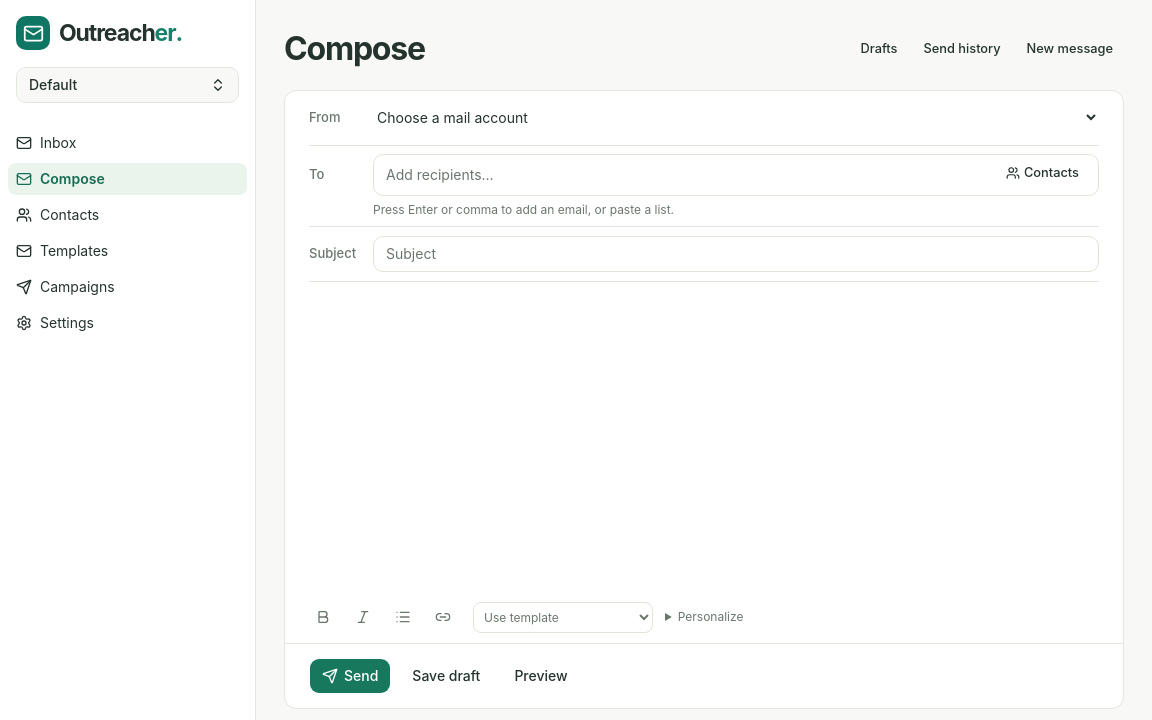
Test: saves and reopens an incomplete draft without requiring an account or template
Type "Unfinished" into the field labelled "Subject" at (736, 254), box [373,236,1099,272]
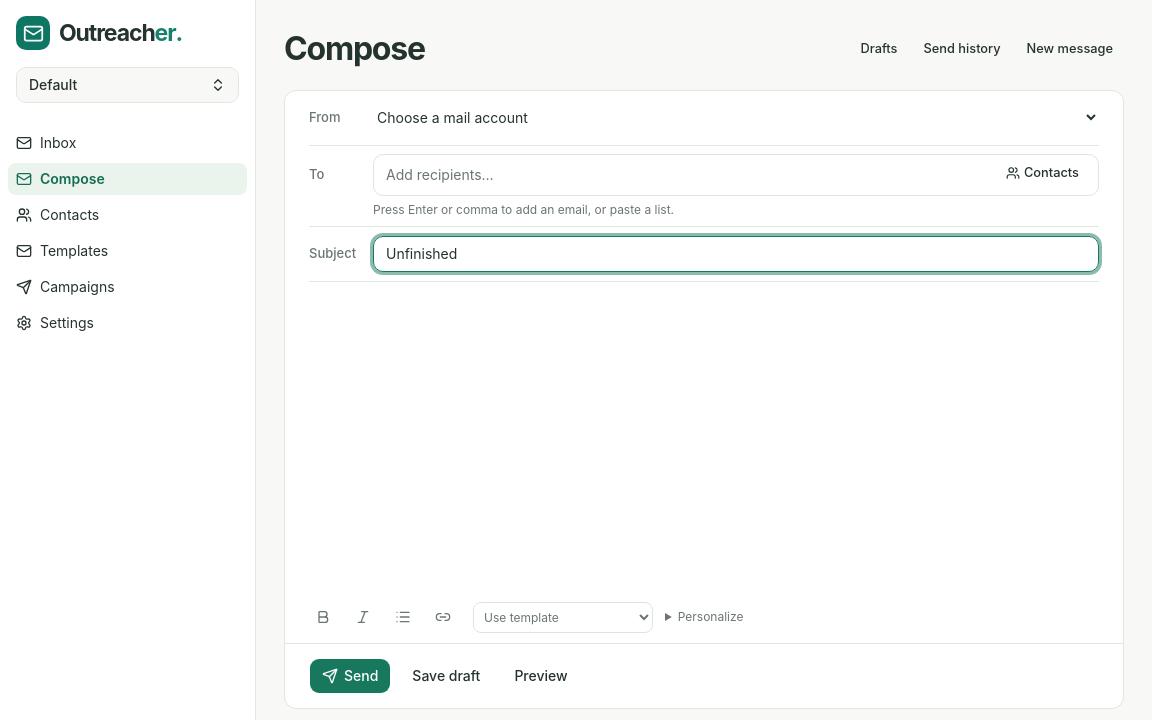
Check: the field labelled "Find contacts" is not shown
Click the button "Contacts" at (1042, 173), box [995,159,1090,187]
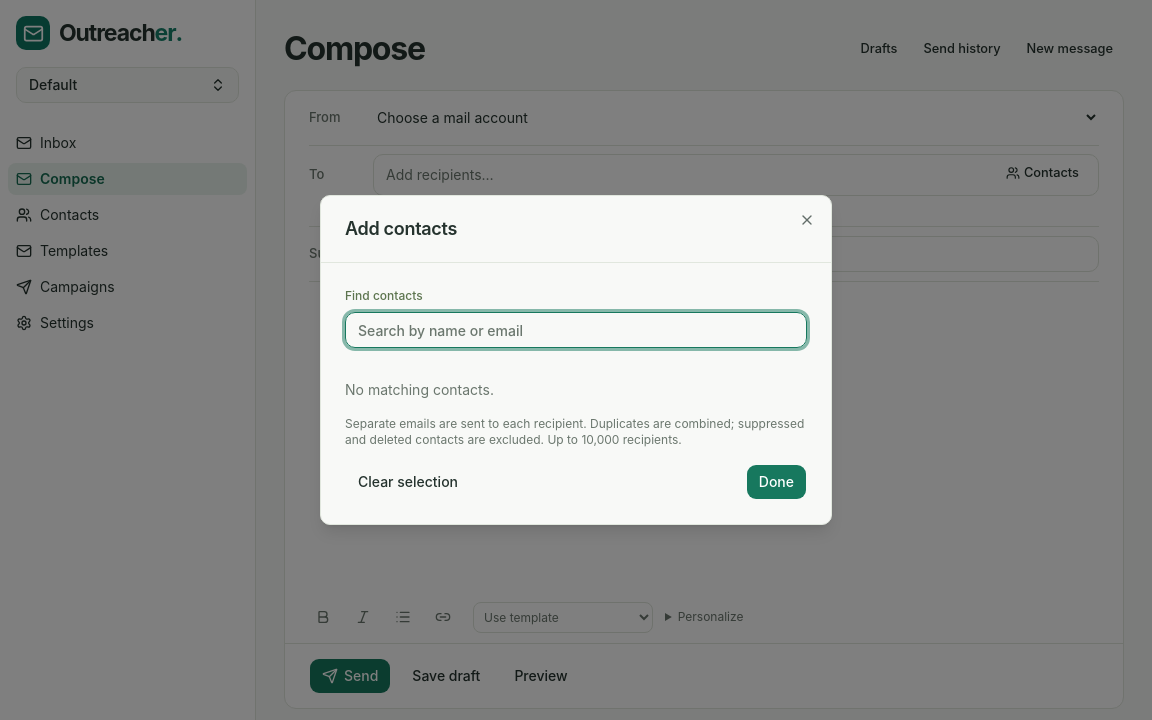
Check: the field labelled "Find contacts" is shown, box [345,312,807,348]
Click the button "Done" at (776, 482), box [746,464,807,500]
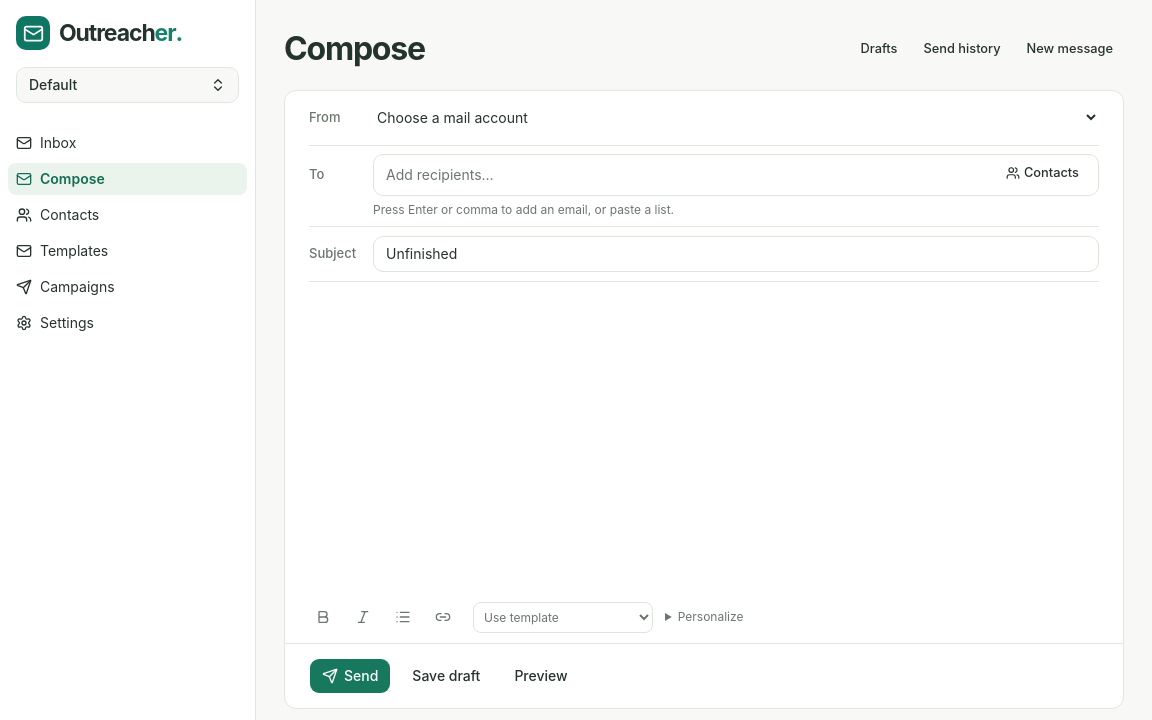
Click the button "Save draft" at (446, 676), box [399,658,493,694]
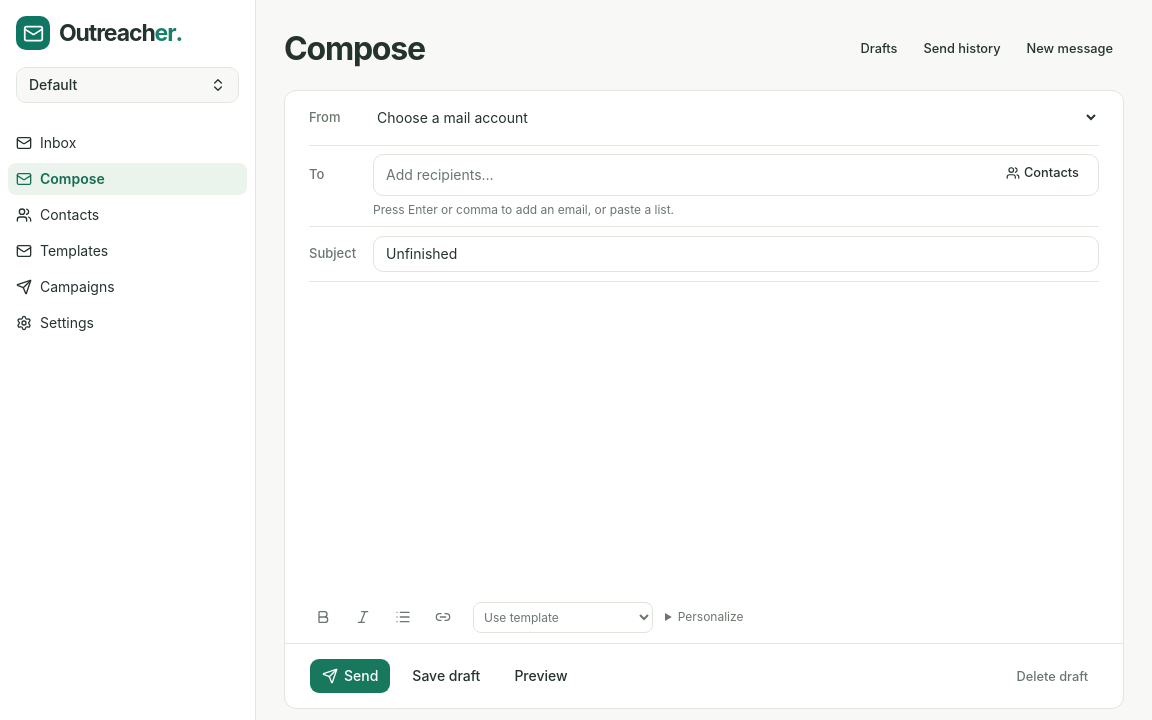
Check: the field labelled "Subject" holds "Unfinished", box [373,236,1099,272]
Check: the button "Delete draft" is shown, box [1006,662,1099,690]
Click the button "Drafts" at (879, 49), box [850,35,908,63]
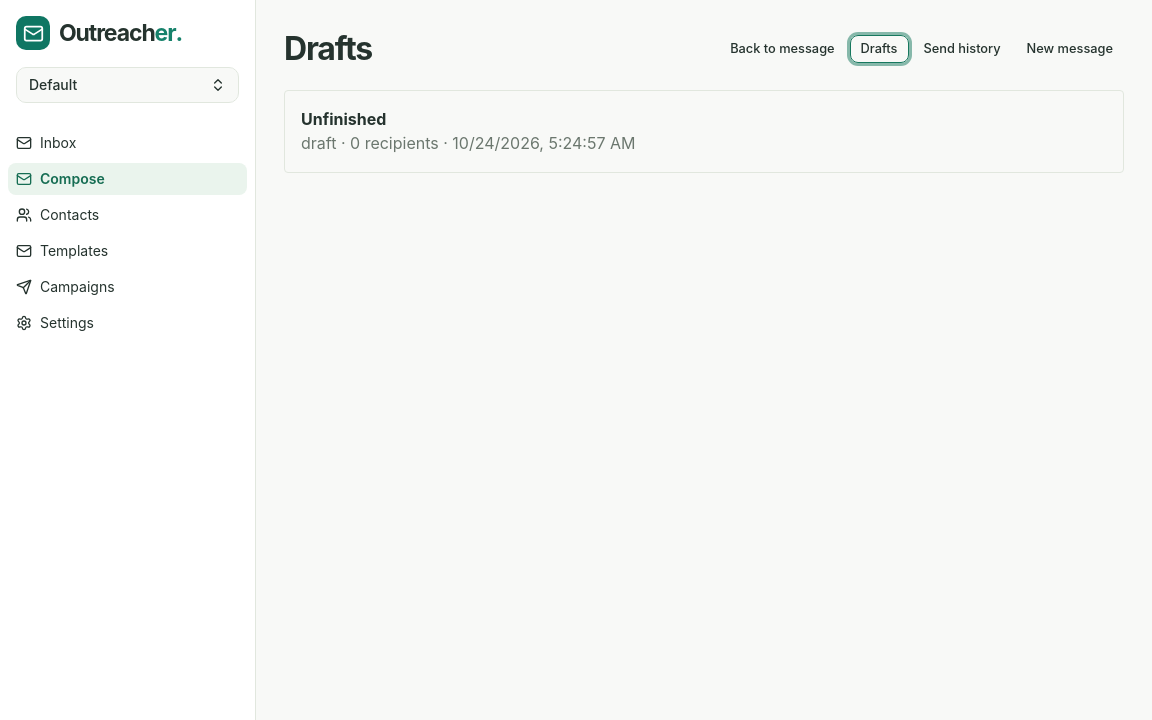
Check: the text "Unfinished" is shown, box [301,109,386,129]
